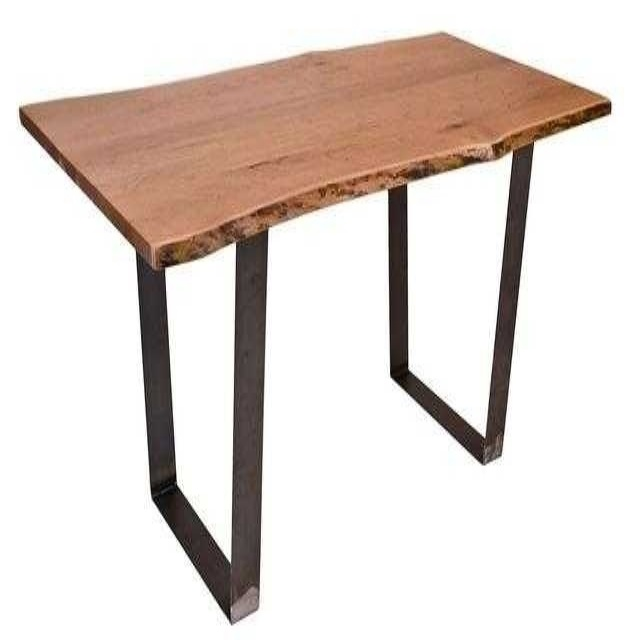obstacle: (20, 33, 610, 622)
